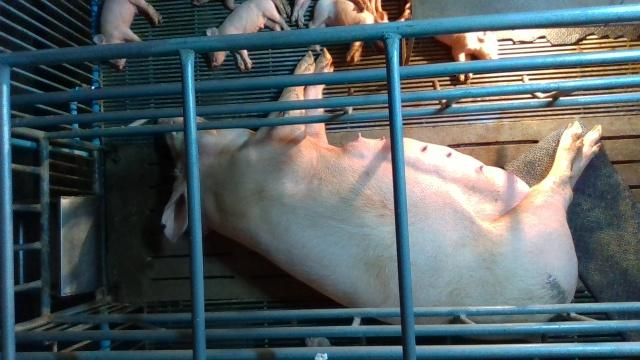piglet: (206, 0, 291, 71), (310, 0, 389, 62), (94, 1, 164, 69), (430, 30, 498, 80)
sow-sleep-lactate: (159, 47, 602, 339)
